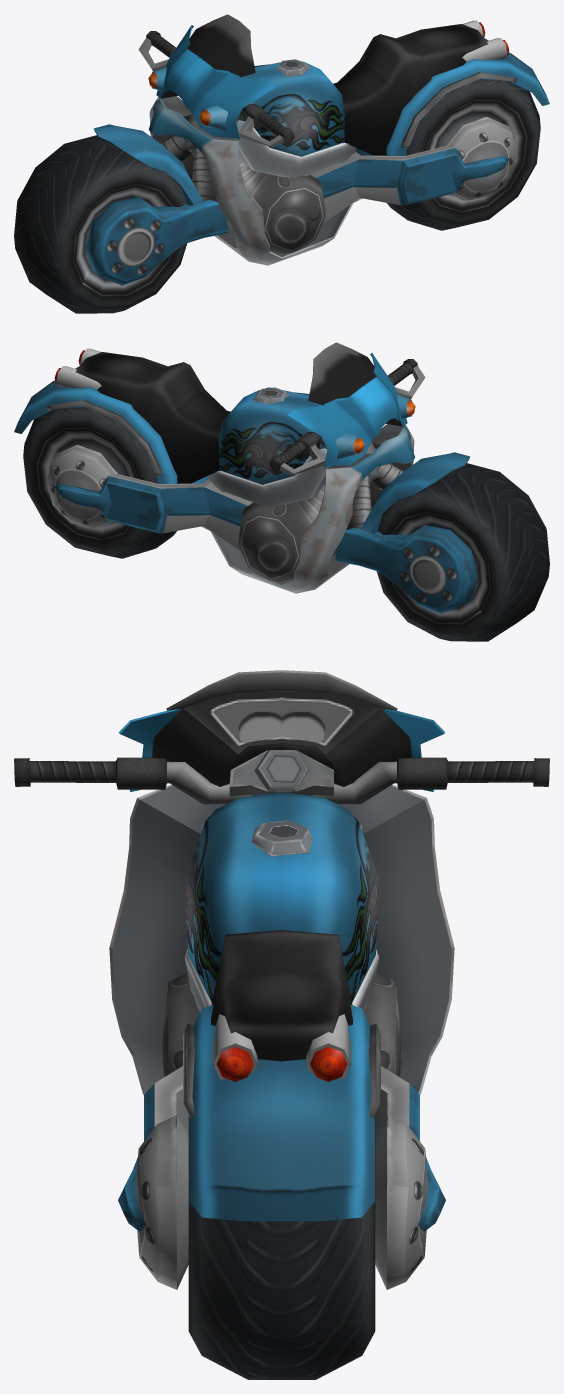
Rendered from Bike_4.fbx.
3 renders of one model, top to bottom at view 1: azimuth 30°, elevation 25°; view 2: azimuth 150°, elevation 25°; view 3: azimuth 270°, elevation 25°, orthographic. The views are drawn at different scales.
Parts seen in each view (by area): view 1: Body, Handle, Front_Wheel, Back_Wheel1; view 2: Body, Handle, Front_Wheel, Back_Wheel1; view 3: Body, Handle, Back_Wheel1.
Boxes of the visible parts, left/top/right/bottom form: Body: left=149, top=20, right=549, bottom=265; Handle: left=86, top=14, right=294, bottom=285; Front_Wheel: left=14, top=135, right=187, bottom=313; Back_Wheel1: left=387, top=79, right=540, bottom=230; Body: left=14, top=348, right=414, bottom=593; Handle: left=269, top=342, right=477, bottom=613; Front_Wheel: left=376, top=463, right=549, bottom=641; Back_Wheel1: left=23, top=407, right=176, bottom=558; Body: left=109, top=784, right=454, bottom=1289; Handle: left=14, top=670, right=549, bottom=804; Back_Wheel1: left=188, top=1116, right=375, bottom=1379.
Size of the model in its own units: 5.46 by 2.58 by 2.54.
